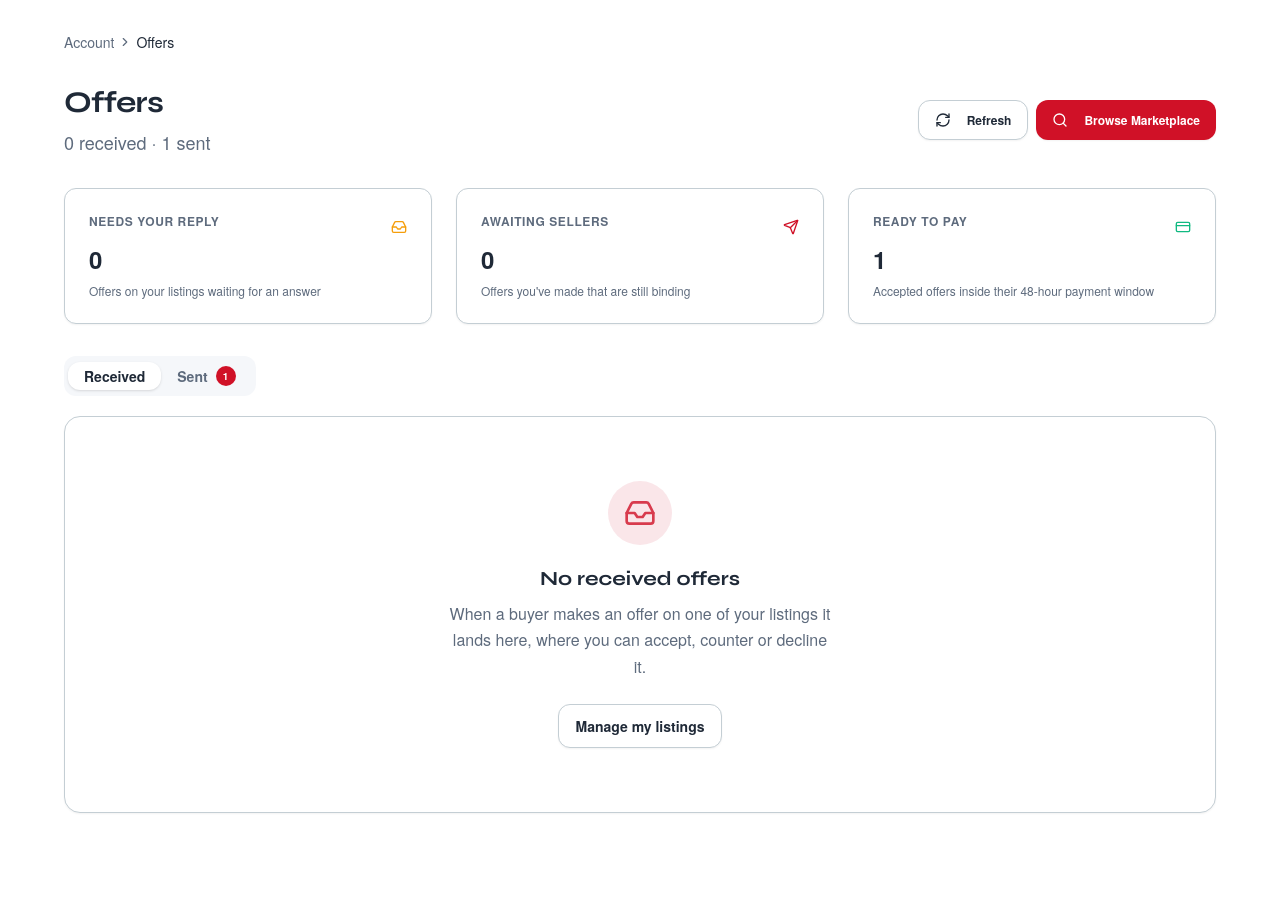
Test: AccountOffers — payment deadline › shows the buyer a Pay button and their pay-by time on an accepted offer
Click the tab "Sent 1".
click(206, 376)  # box [161,362,252,390]
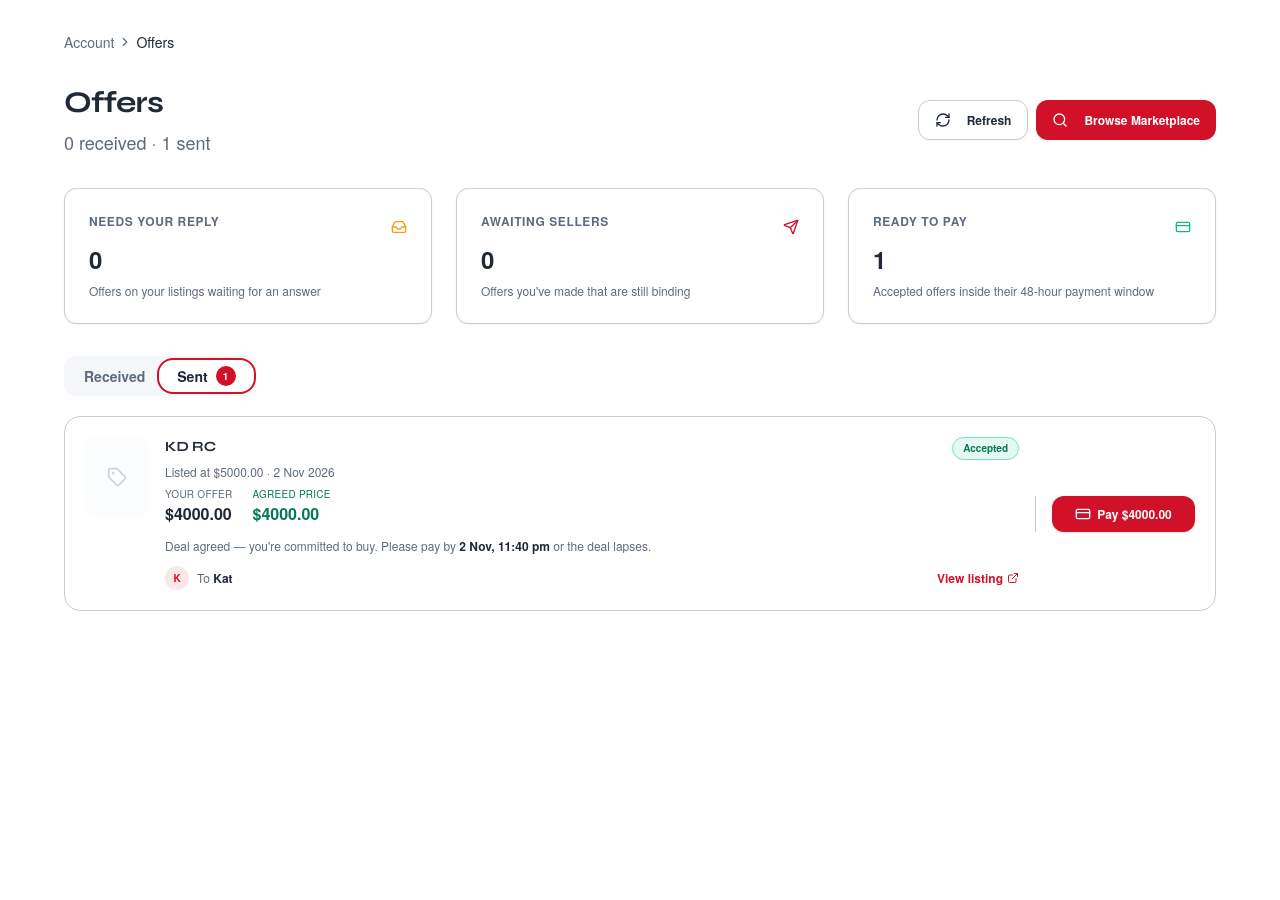
Expected: the button "Pay $4000.00" is shown, [1052,496,1195,532]
Expected: the text "Please pay by" is shown, [378,537,459,554]
